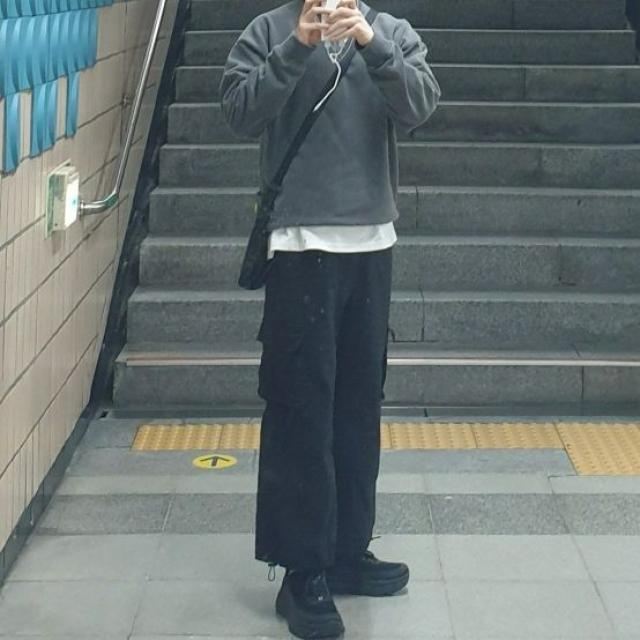cottonpants: (253, 246, 389, 574)
mtm: (220, 1, 442, 230)
